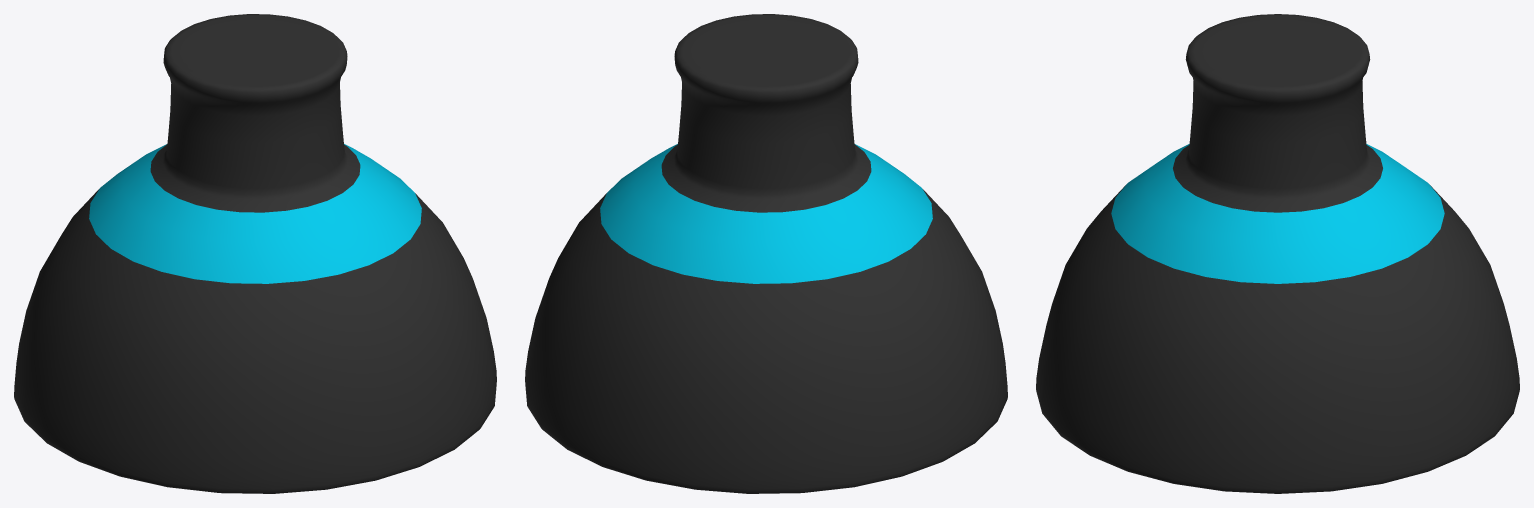
File: plugBase.fbx
3 views of the same model, side by side, from view 1: azimuth 30°, elevation 25°; view 2: azimuth 150°, elevation 25°; view 3: azimuth 270°, elevation 25° (orthographic).
Visible parts, largest first — view 1: Rubber; view 2: Rubber; view 3: Rubber.
Part boxes in pixels (<box>): Rubber: <box>14,14,496,493</box>; Rubber: <box>525,14,1007,493</box>; Rubber: <box>1036,14,1519,493</box>.
Bounding box in the file's own units: 193 × 151 × 193.
